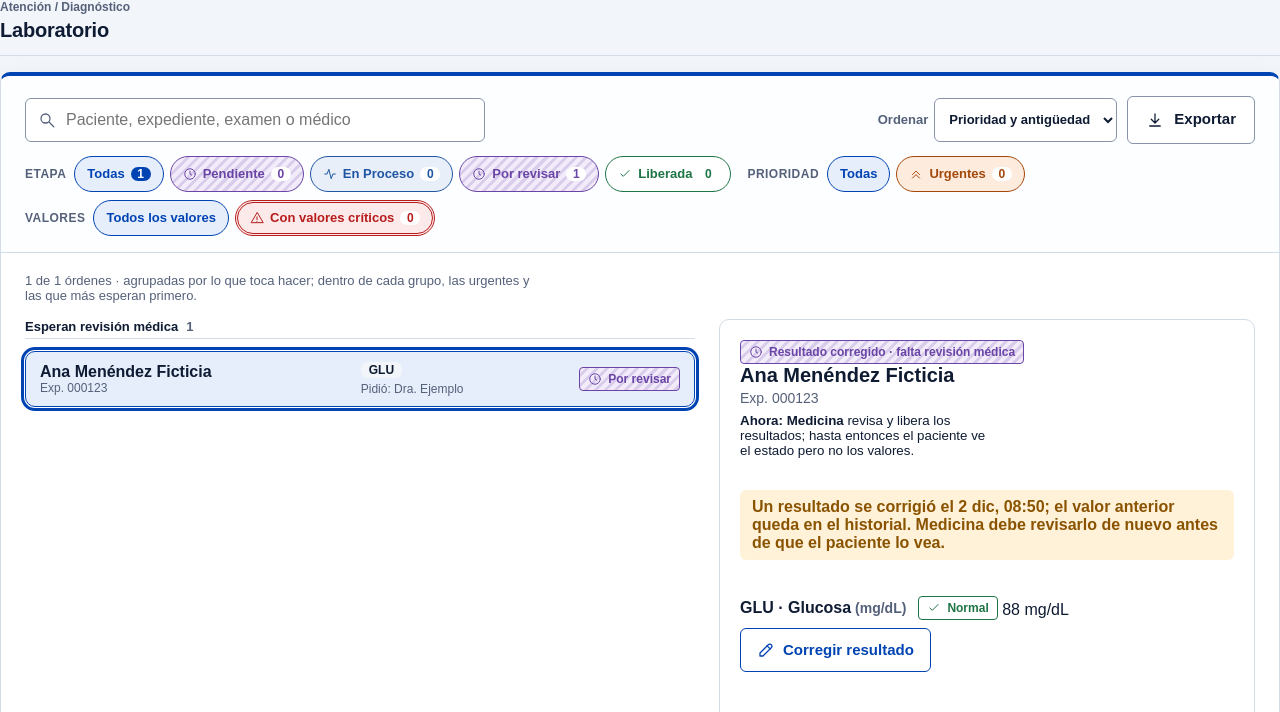
it: Laboratorio · auditoría 2026-11-20 › D104: after a correction its own message replaces the old one and the standing note
The width and height of the screenshot is (1280, 712).
Click the button "Corregir resultado" at (835, 650), box [740, 628, 931, 672]
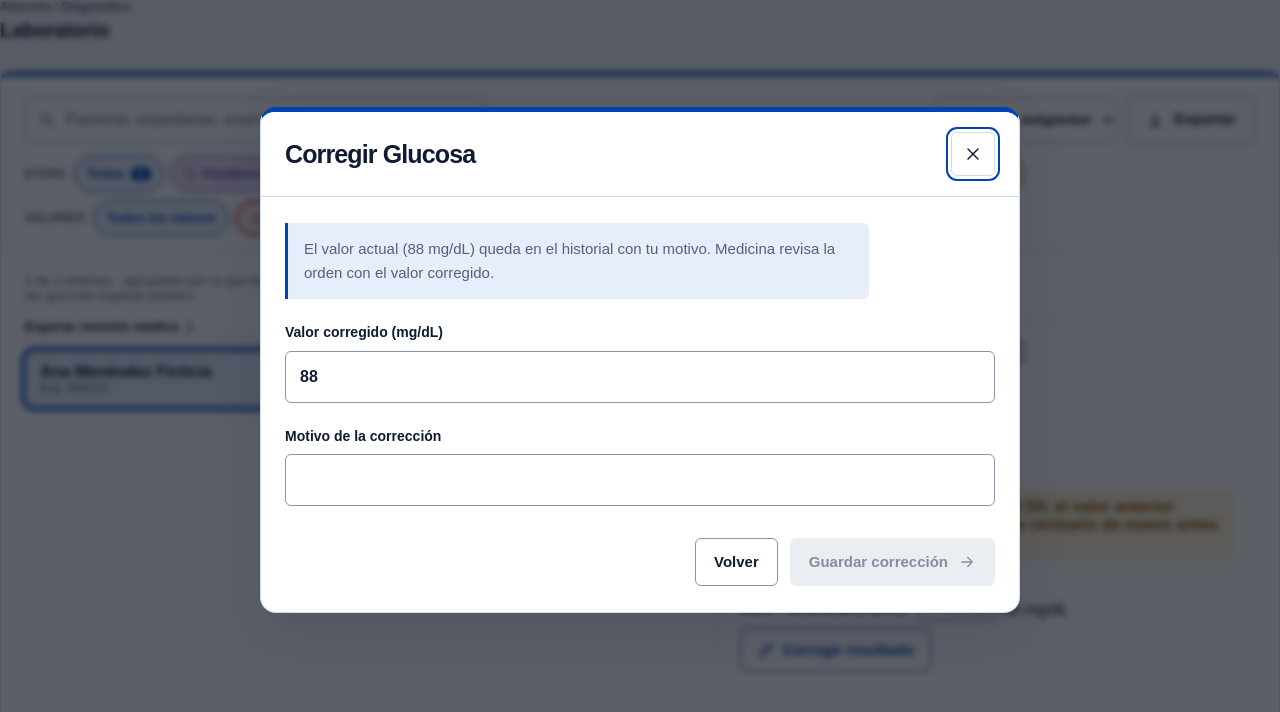
Replace the text in the number field labelled "Valor corregido (mg/dL)" with "90" at (640, 376), box [285, 350, 995, 402]
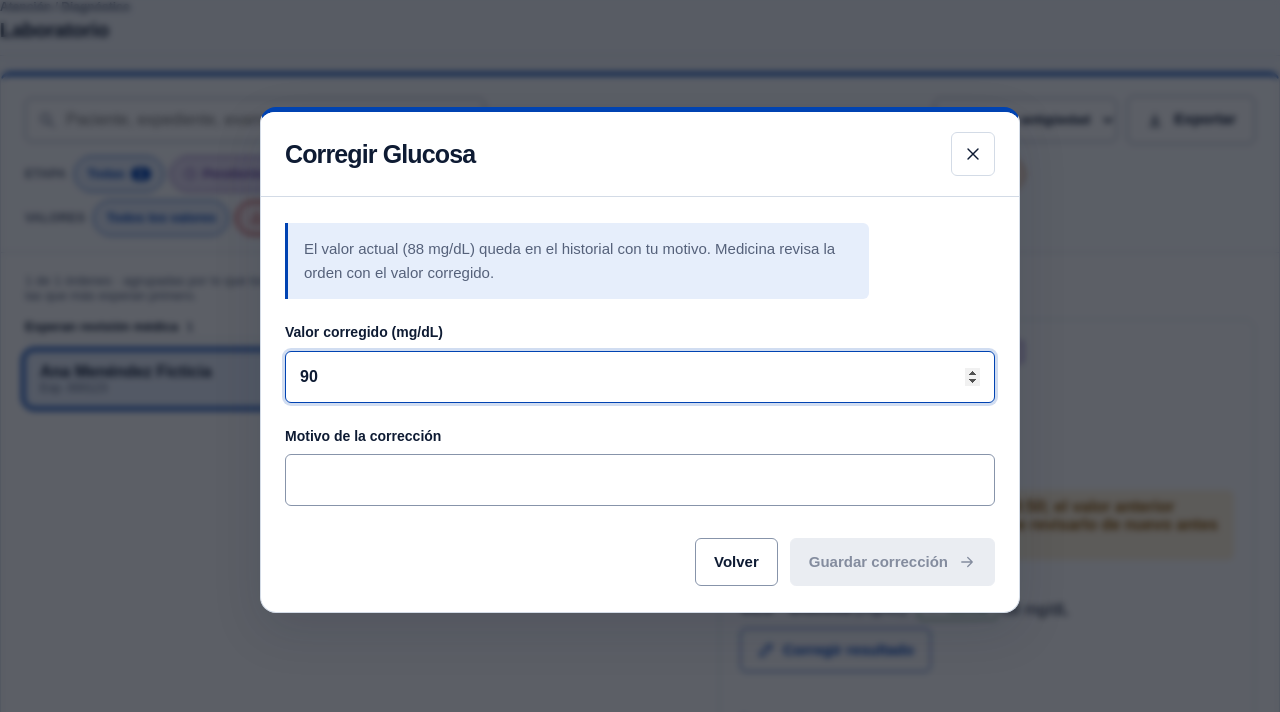
Type "Error de transcripción" into the field labelled "Motivo de la corrección" at (640, 480), box [285, 454, 995, 506]
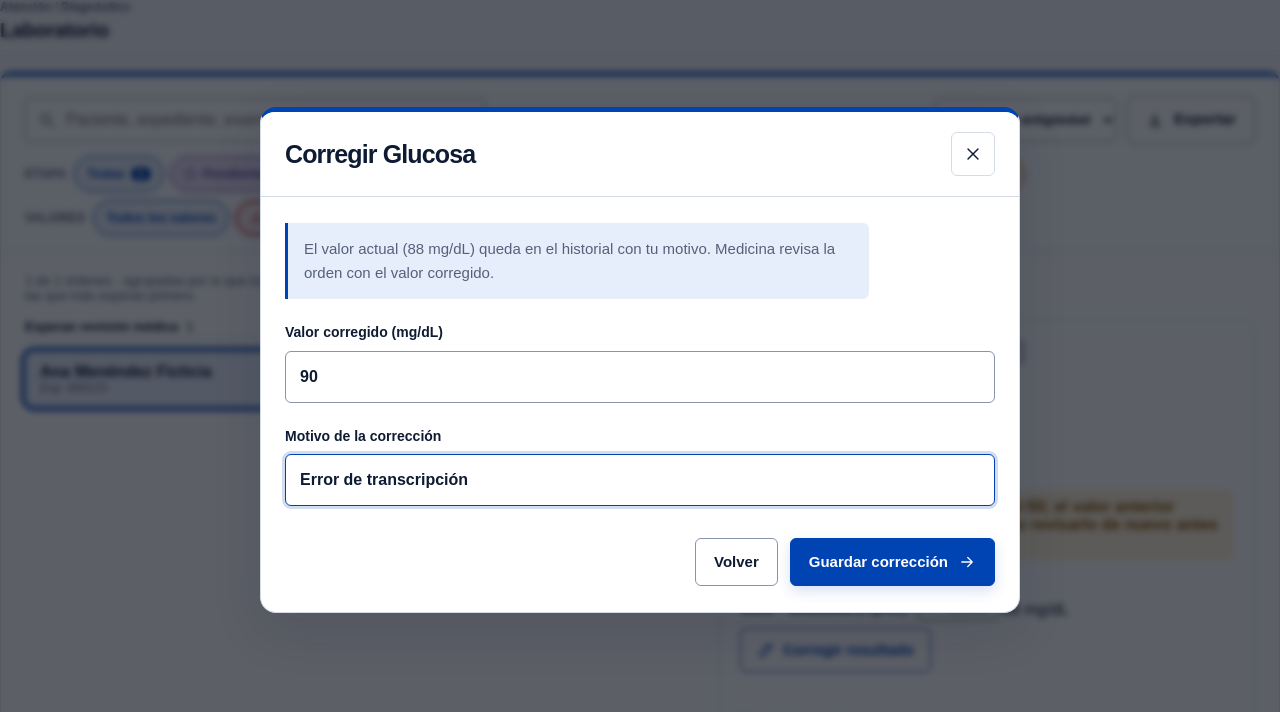
Click the button "Guardar corrección" at (892, 562), box [790, 538, 995, 586]
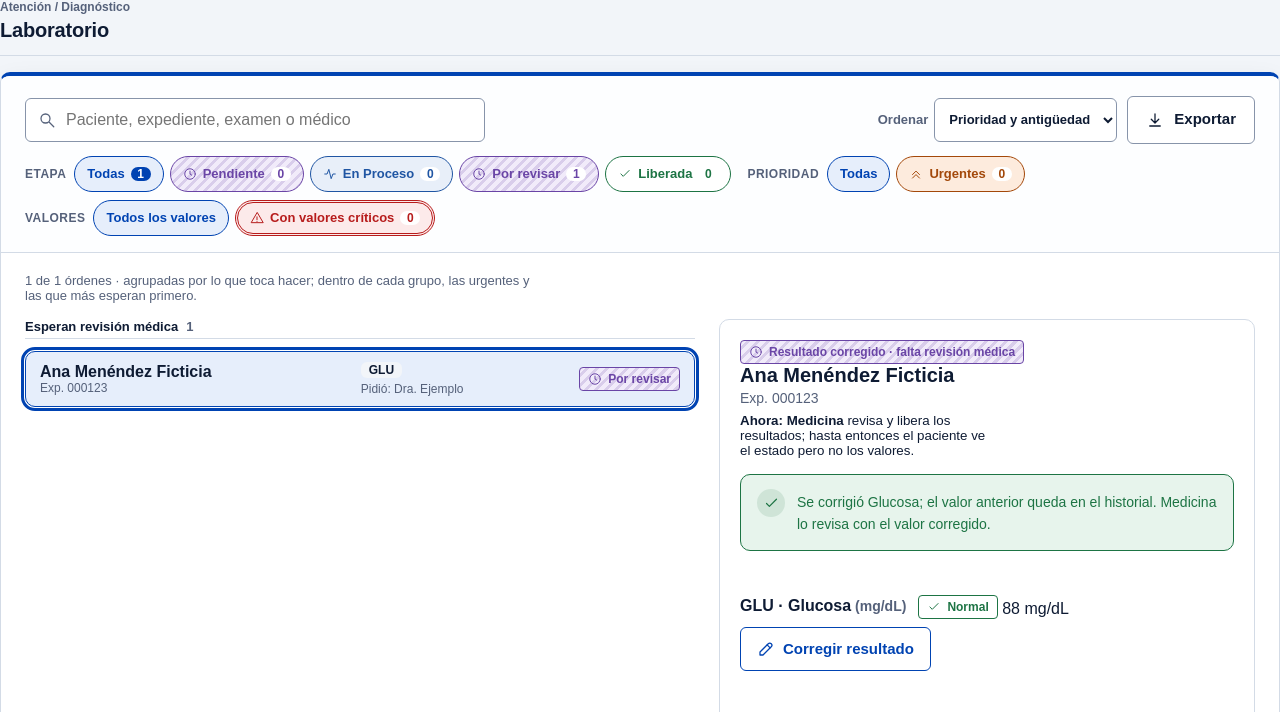
Expected: the text "Se corrigió Glucosa; el valor anterior queda en el historial." is shown, [797, 494, 1216, 532]
